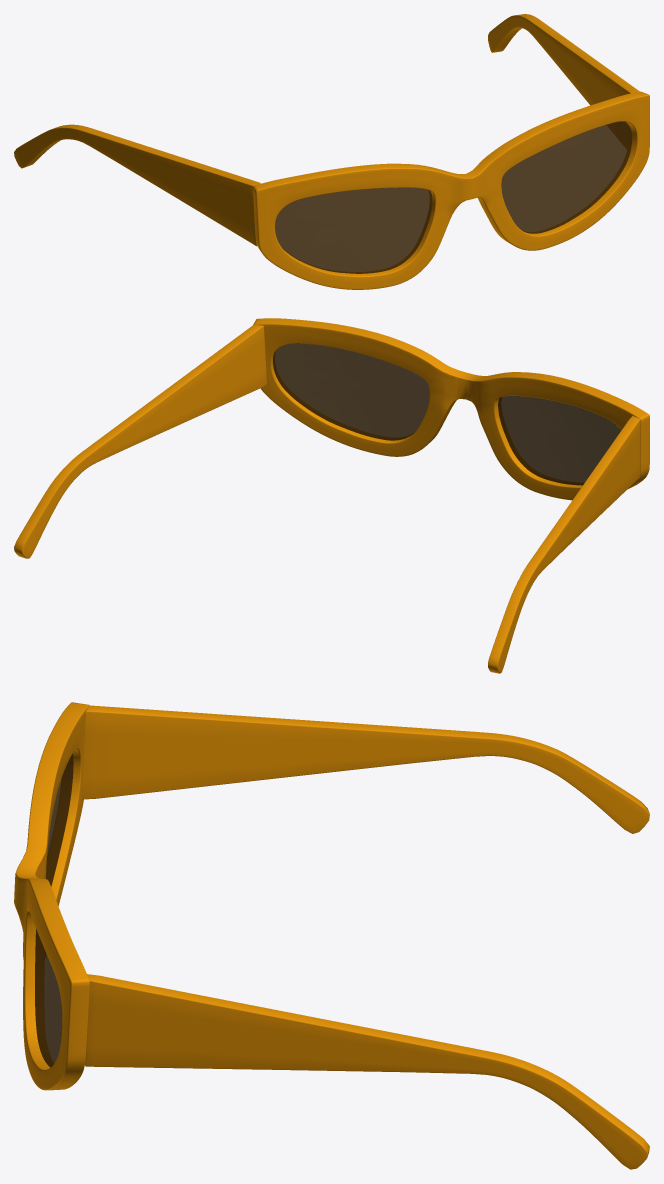
Rendered from wrap.glb.
3 views of the same model, one above another, from view 1: azimuth 30°, elevation 25°; view 2: azimuth 150°, elevation 25°; view 3: azimuth 270°, elevation 25° (orthographic). The views are drawn at different scales.
Parts seen in each view (by area): view 1: Plane001, Plane001_2; view 2: Plane001, Plane001_2; view 3: Plane001, Plane001_2.
Part boxes in pixels (box(x1,y1,x2,y2)): Plane001: box(14, 14, 649, 289); Plane001_2: box(275, 121, 632, 273); Plane001: box(14, 318, 649, 673); Plane001_2: box(273, 343, 621, 485); Plane001: box(14, 702, 649, 1169); Plane001_2: box(35, 754, 73, 1067).
Size of the model in its own units: 1.82 by 0.4328 by 1.42.
